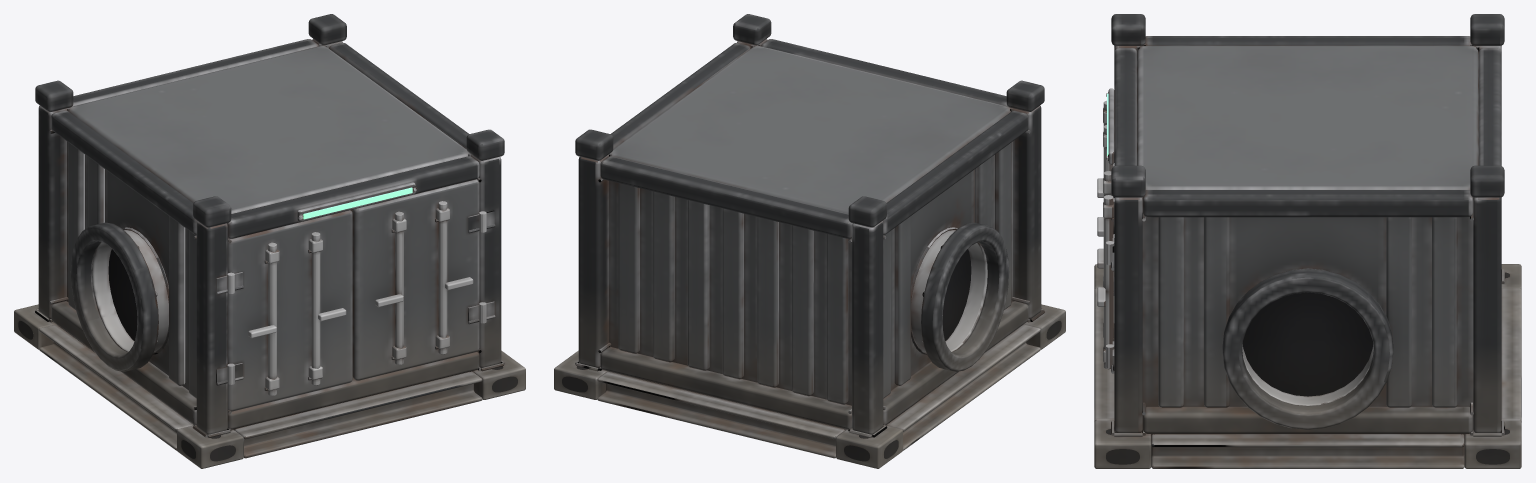
Rendered from SM_Chest.glb.
The picture shows the model from 3 angles, left to right: view 1: azimuth 30°, elevation 25°; view 2: azimuth 150°, elevation 25°; view 3: azimuth 270°, elevation 25°; orthographic projection. The views are drawn at different scales.
Parts seen in each view (by area): view 1: SM_Chest; view 2: SM_Chest; view 3: SM_Chest.
Part boxes in pixels (<box>): SM_Chest: <box>14,14,525,468</box>; SM_Chest: <box>554,14,1065,468</box>; SM_Chest: <box>1094,14,1521,468</box>.
Size of the model in its own units: 1.5 by 1.1 by 1.5.
6 materials, 5 textured.
